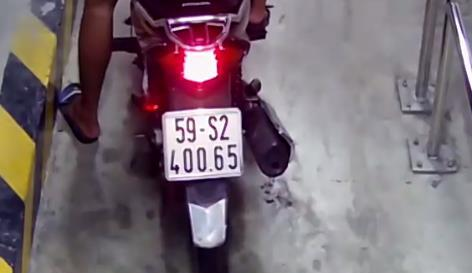lisence: (162, 107, 243, 180)
